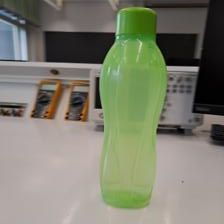bottle: (96, 7, 170, 207)
